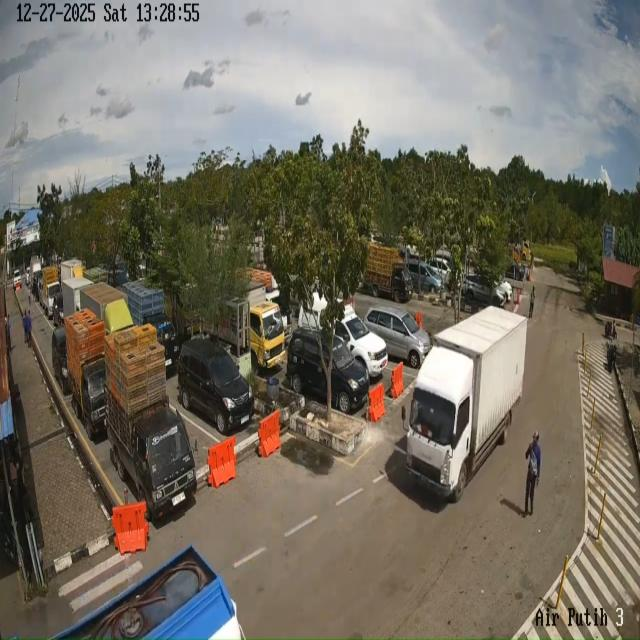Golongan IVA: (298, 292, 388, 377), (178, 338, 255, 435), (286, 328, 370, 413), (364, 305, 431, 369), (463, 274, 506, 306), (51, 325, 70, 395), (408, 259, 443, 293)
Golongan IVB: (105, 387, 196, 521), (64, 358, 104, 440), (363, 243, 413, 303), (41, 265, 61, 317)
Golongan VB: (403, 306, 527, 502), (205, 280, 286, 370)
